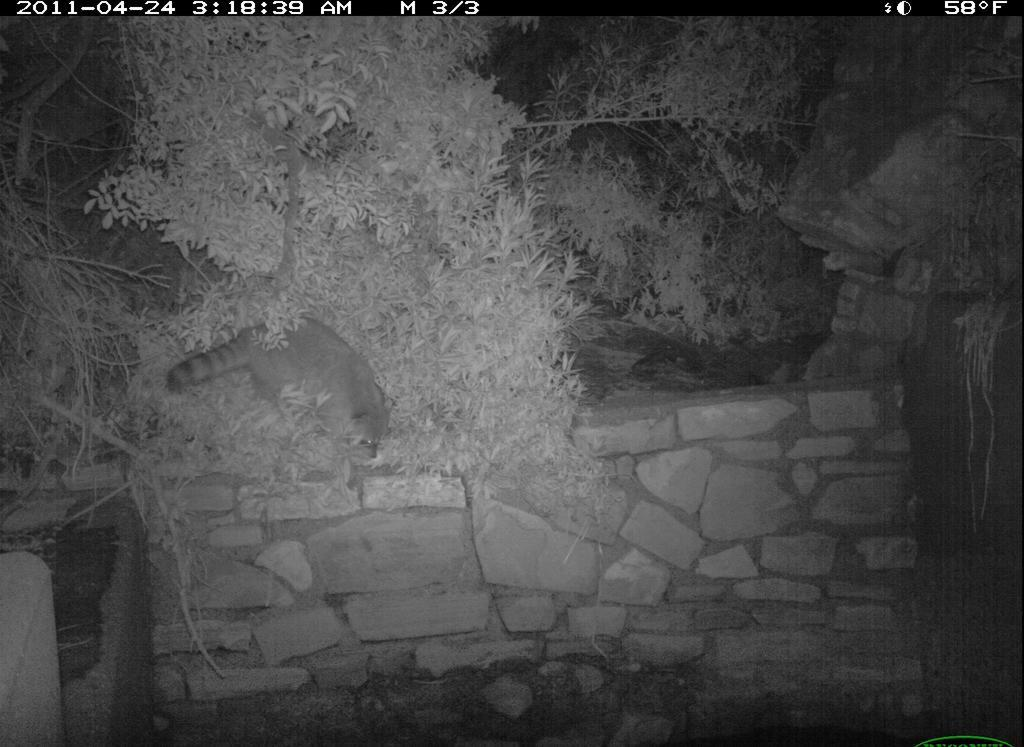raccoon: (161, 303, 399, 472)
